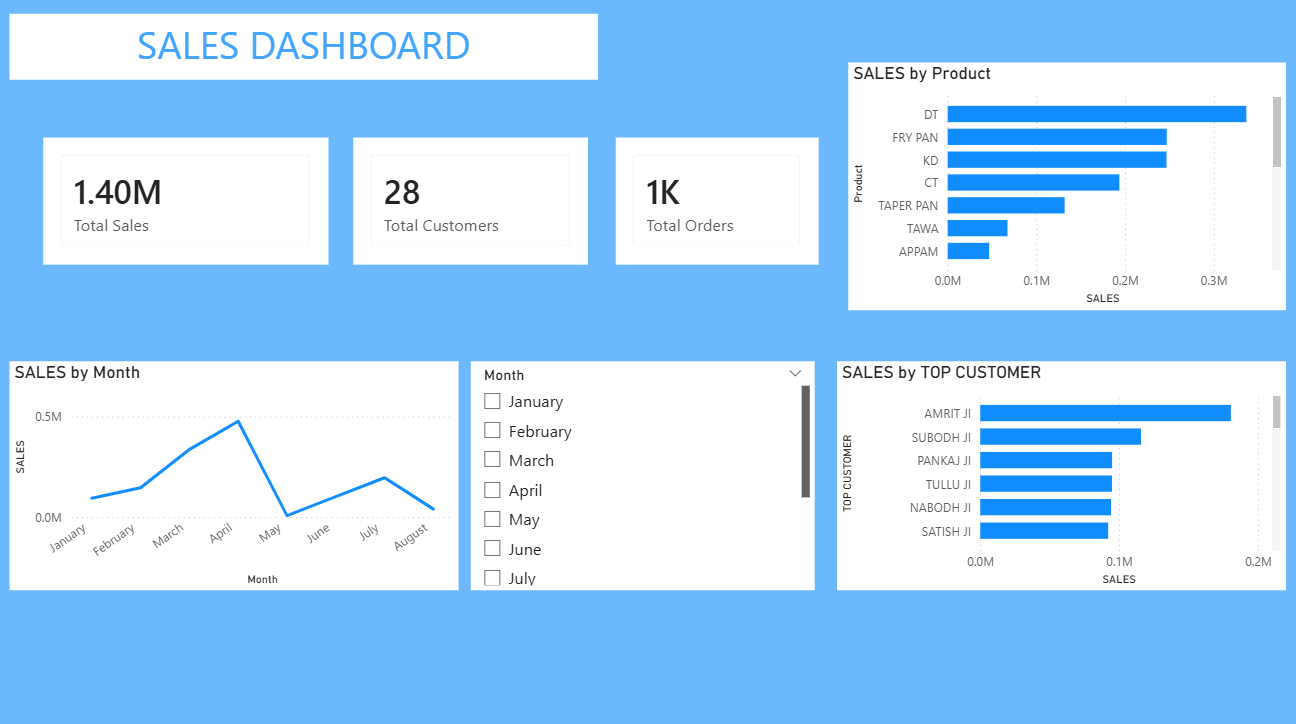

What the dashboard file says about the page in this screenshot:
{"tool":"powerbi","page":{"name":"Page 1","canvas":[1280,720],"ordinal":0},"visuals":[{"type":"cardVisual","fields":{"Data":["Sum(sales data(Sheet1) (2).Line_Total)"]},"box":[45.3,140,279.9,124.9],"z":0},{"type":"textbox","box":[12.3,17.8,577.7,64.5],"z":1000},{"type":"cardVisual","fields":{"Data":["sales data(Sheet1) (2).Total Customers"]},"box":[349.9,140,230.5,124.9],"z":2000},{"type":"cardVisual","fields":{"Data":["sales data(Sheet1) (2).Total Orders"]},"box":[607.9,140,199,124.9],"z":3000},{"type":"clusteredBarChart","fields":{"Category":["sales data(Sheet1) (2).Product"],"Y":["Sum(sales data(Sheet1) (2).Line_Total)"]},"box":[835.7,65.9,429.5,242.9],"z":4000},{"type":"lineChart","fields":{"Category":["sales data(Sheet1) (2).Date.Variation.Date Hierarchy.Month","sales data(Sheet1) (2).Date.Variation.Date Hierarchy.Day"],"Y":["Sum(sales data(Sheet1) (2).Line_Total)"]},"box":[12.3,359.5,440.5,225],"z":5000},{"type":"slicer","fields":{"Values":["sales data(Sheet1) (2).Date.Variation.Date Hierarchy.Month"]},"box":[465.2,359.5,337.6,225],"z":5001},{"type":"clusteredBarChart","fields":{"Category":["sales data(Sheet1) (2).Customer_Name"],"Y":["Sum(sales data(Sheet1) (2).Line_Total)"]},"box":[824.7,359.5,440.5,225],"z":5002}]}

Visuals, with their boxes in screenshot pixels (x1, y1, x2, y2), scaled from the page's 1280x720 canvas onto the 1296x724 screenshot:
cardVisual - Sum(sales data(Sheet1) (2).Line_Total): pyautogui.locateOnScreen(46, 141, 329, 266)
textbox: pyautogui.locateOnScreen(12, 18, 597, 83)
cardVisual - sales data(Sheet1) (2).Total Customers: pyautogui.locateOnScreen(354, 141, 588, 266)
cardVisual - sales data(Sheet1) (2).Total Orders: pyautogui.locateOnScreen(615, 141, 817, 266)
clusteredBarChart - sales data(Sheet1) (2).Product x Sum(sales data(Sheet1) (2).Line_Total): pyautogui.locateOnScreen(846, 66, 1281, 311)
lineChart - sales data(Sheet1) (2).Date.Variation.Date Hierarchy.Month x sales data(Sheet1) (2).Date.Variation.Date Hierarchy.Day: pyautogui.locateOnScreen(12, 361, 458, 588)
slicer - sales data(Sheet1) (2).Date.Variation.Date Hierarchy.Month: pyautogui.locateOnScreen(471, 361, 813, 588)
clusteredBarChart - sales data(Sheet1) (2).Customer_Name x Sum(sales data(Sheet1) (2).Line_Total): pyautogui.locateOnScreen(835, 361, 1281, 588)
